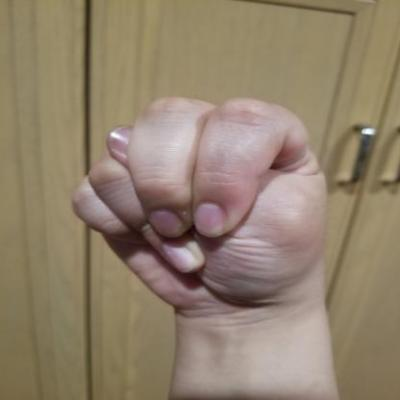hand: (62, 90, 332, 312)
